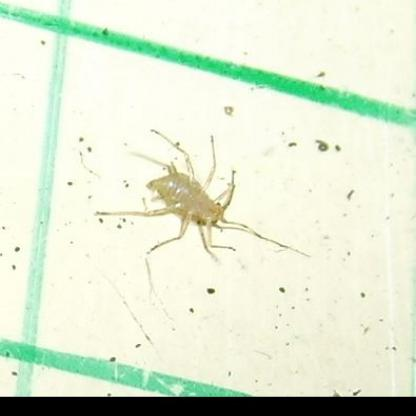aphid: (106, 127, 275, 283)
